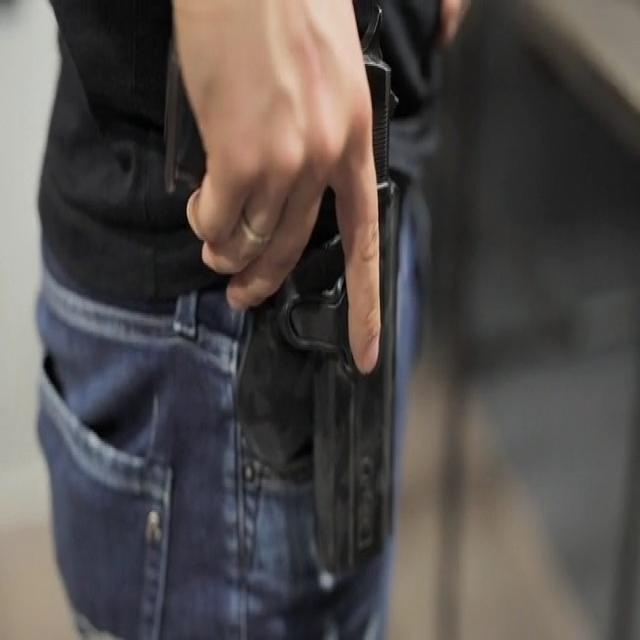Gun_Holder: (173, 0, 433, 640)
